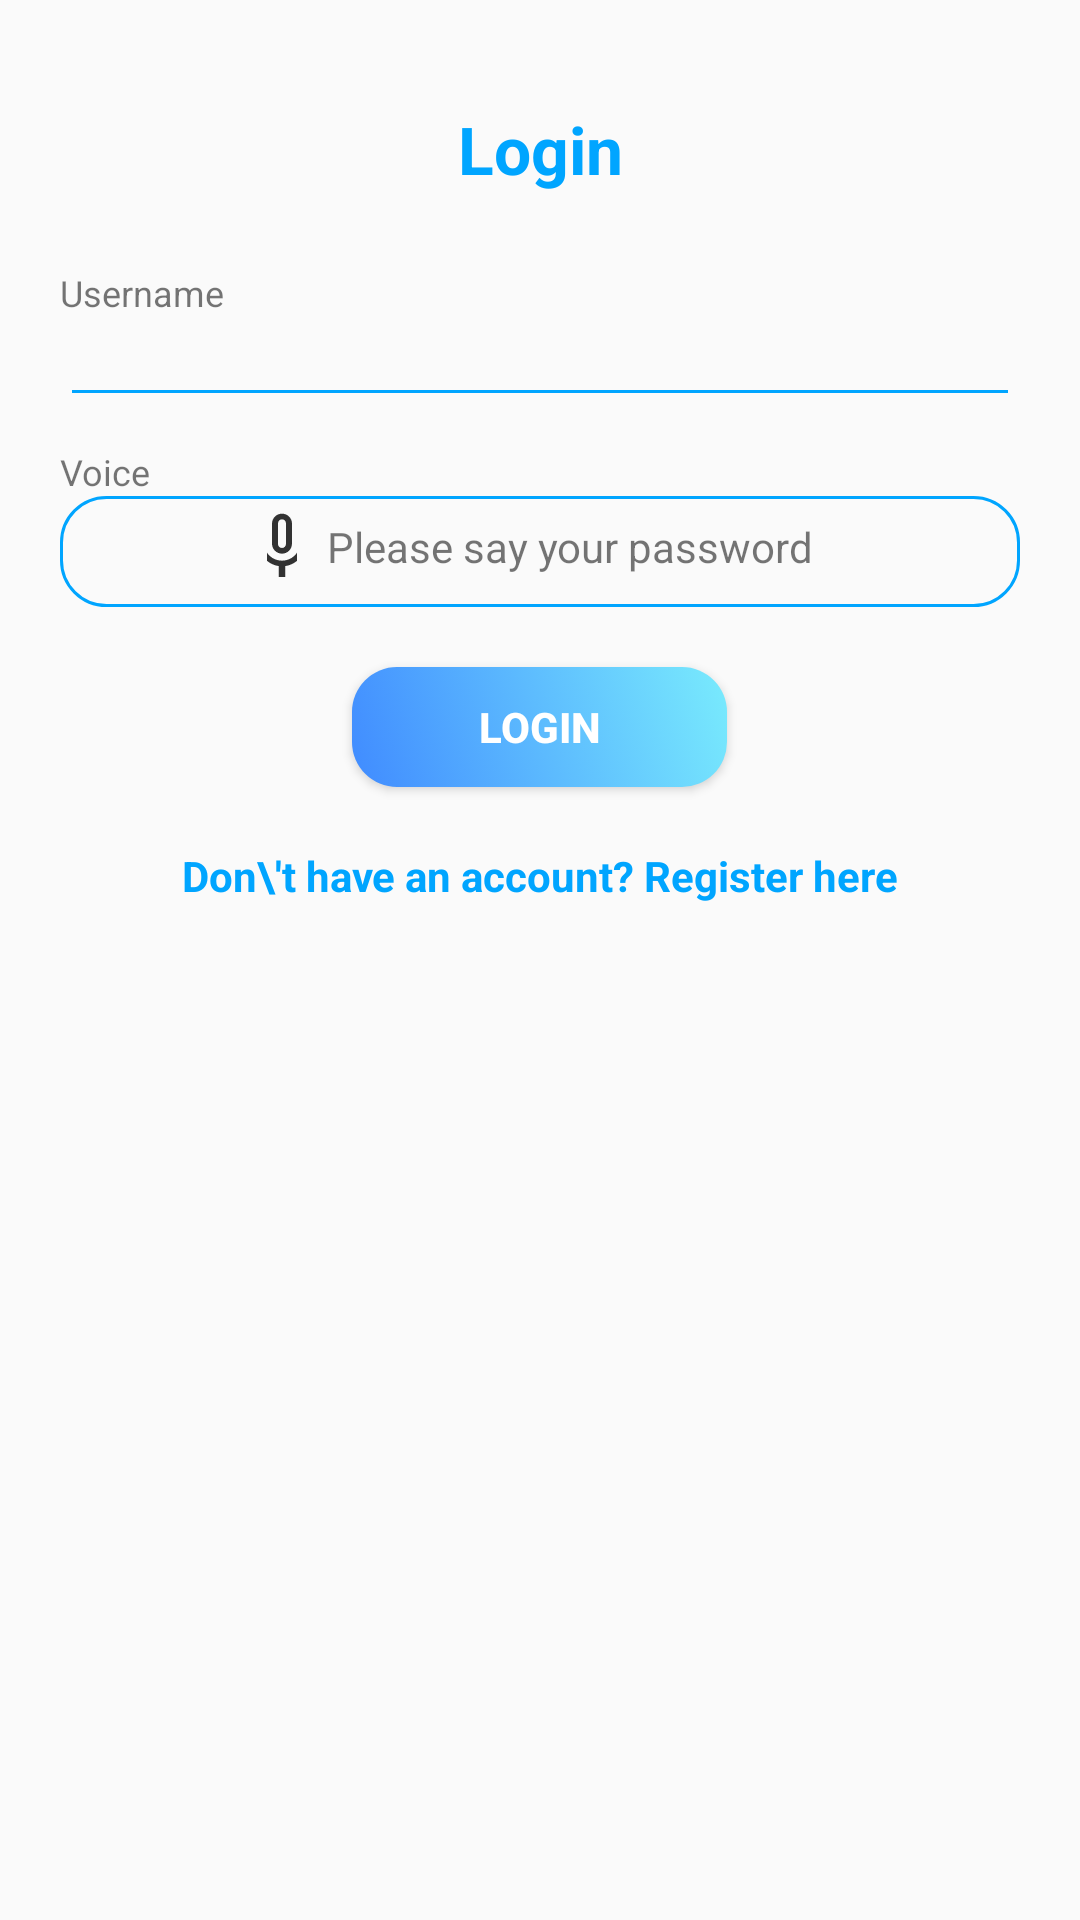

Where to tap for icons on this 1080 × 1920 app screen, as point (x, y):
record: point (282, 545)
